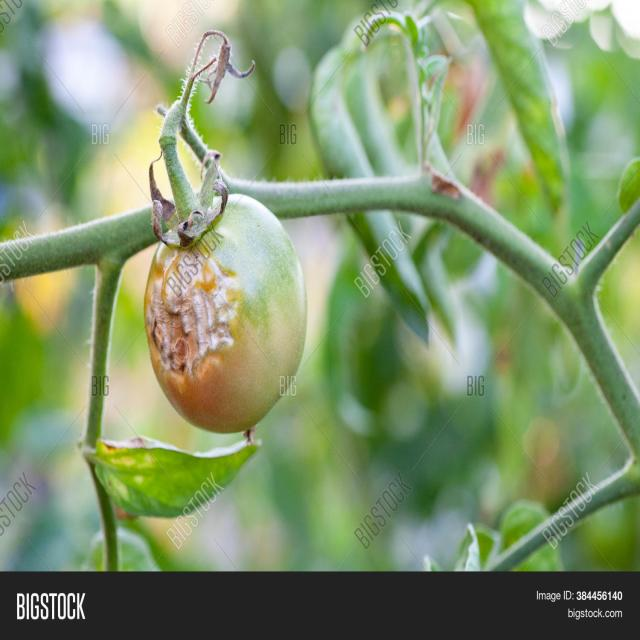damaged: (143, 190, 316, 448)
